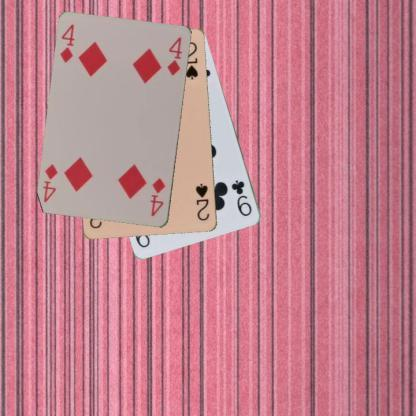2s: (193, 181, 211, 222)
4d: (58, 22, 77, 64), (148, 175, 166, 218)
9c: (229, 177, 254, 218)
